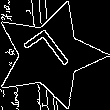L_SE: (20, 26, 78, 84)
